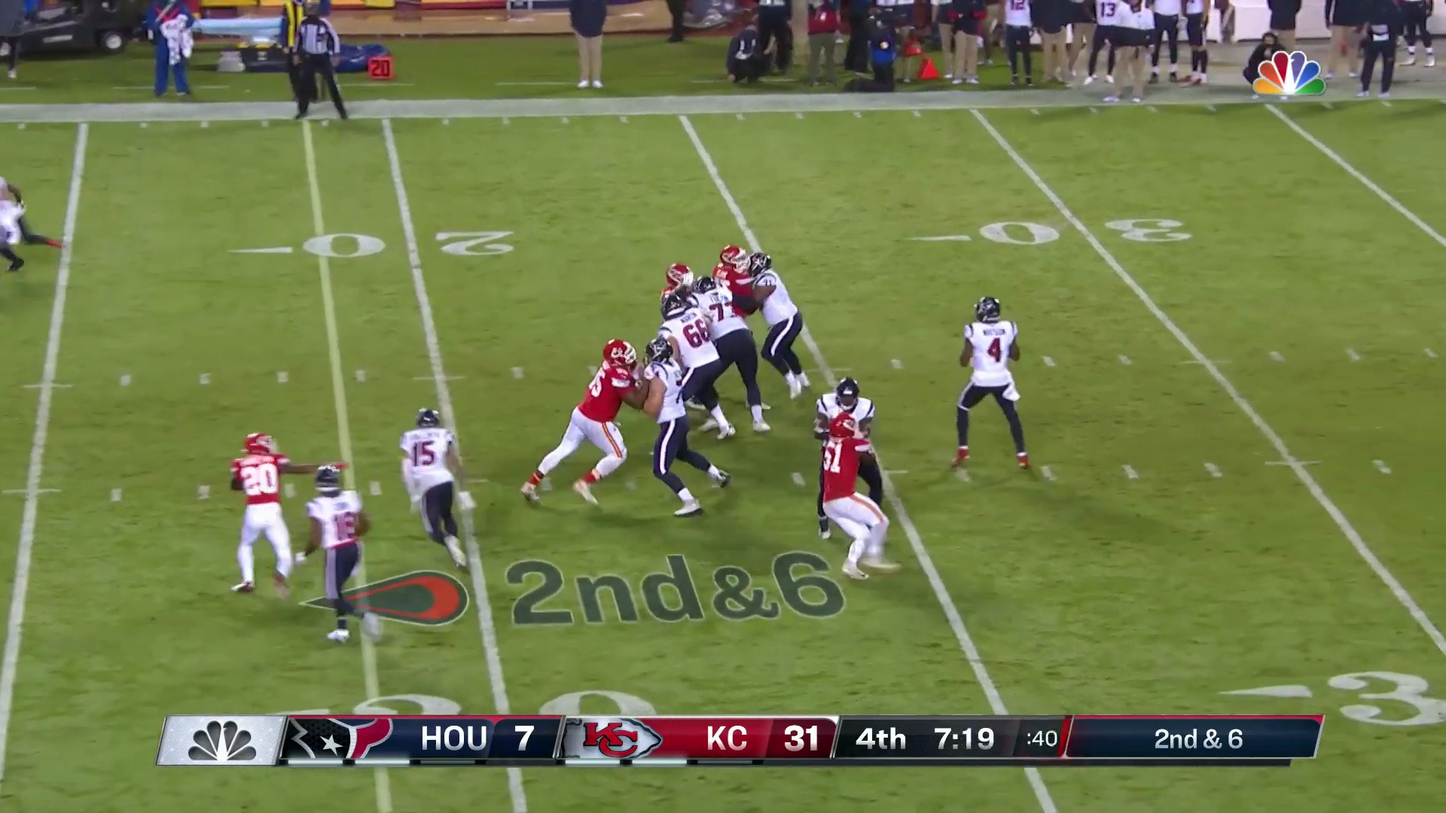Player: (816, 378, 887, 575), (400, 408, 467, 565), (307, 463, 364, 640), (662, 269, 723, 432), (231, 432, 291, 592), (644, 330, 697, 511), (748, 252, 808, 395), (713, 244, 760, 419), (659, 263, 706, 376)
